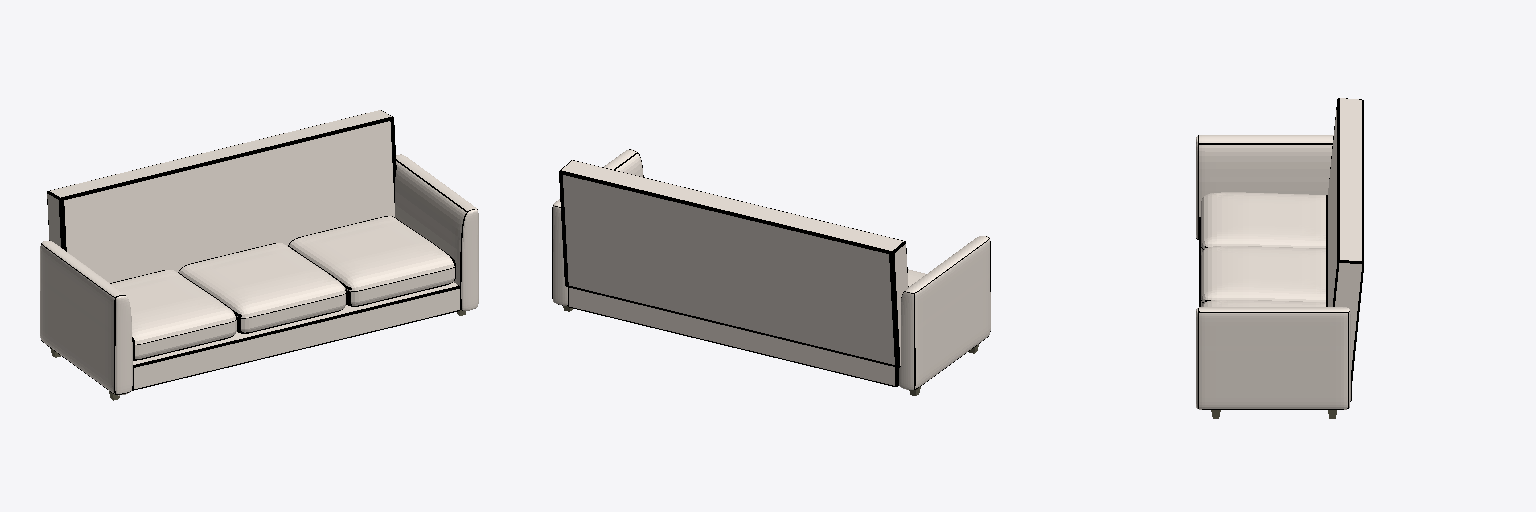
3 views of the same model, side by side, from view 1: azimuth 30°, elevation 25°; view 2: azimuth 150°, elevation 25°; view 3: azimuth 270°, elevation 25° (orthographic).
Visible parts, largest first — view 1: Couch; view 2: Couch; view 3: Couch.
Part boxes in pixels (bbox=[...]): Couch: bbox=[40, 110, 478, 400]; Couch: bbox=[552, 149, 990, 395]; Couch: bbox=[1196, 98, 1363, 418].
Size of the model in its own units: 1.59 by 0.6406 by 0.6363.
3 materials, 2 textured.